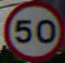Speed limit: (5, 2, 60, 53)
